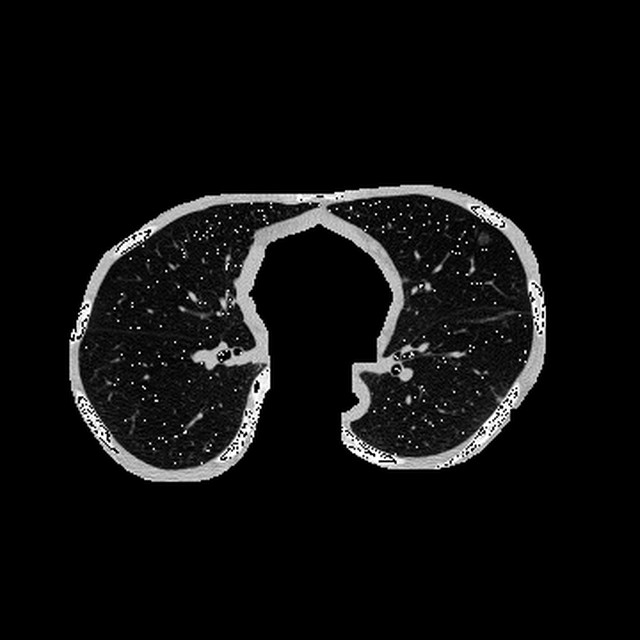PN: (476, 231, 491, 245)
